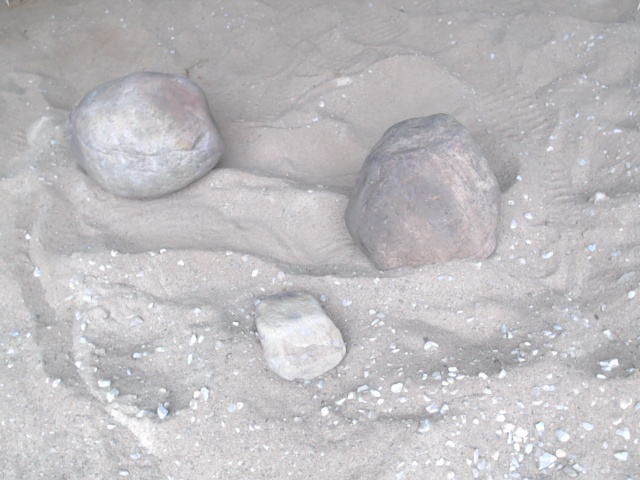rock: (339, 107, 508, 281), (65, 67, 229, 205), (247, 285, 351, 386)
